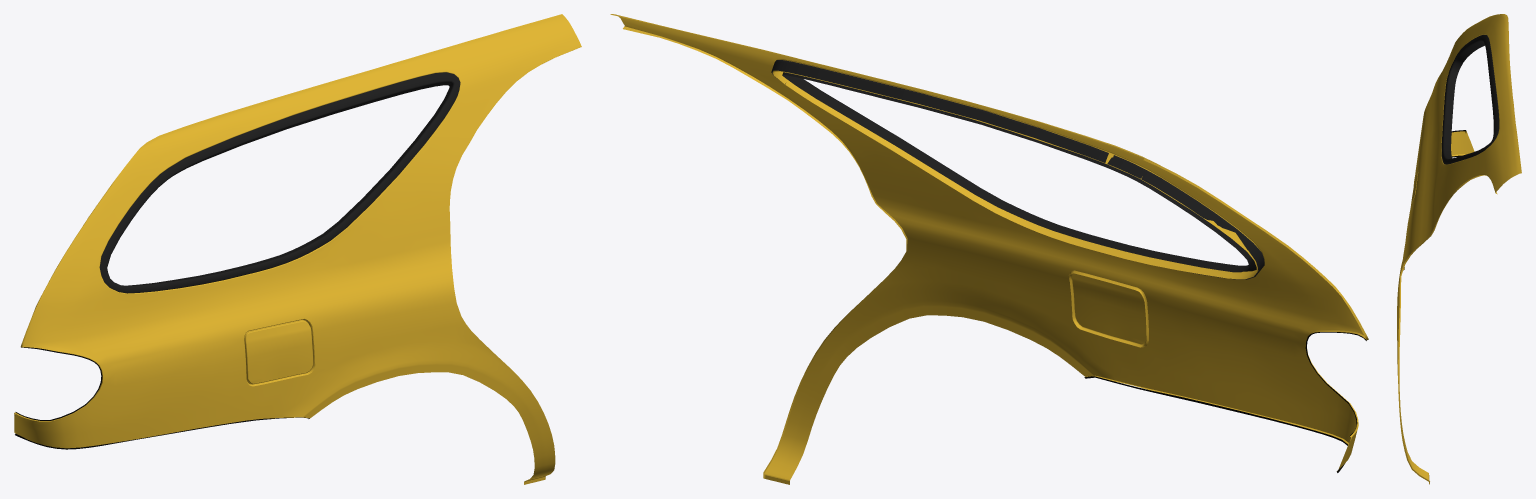
3 renders of one model, left to right at view 1: azimuth 30°, elevation 25°; view 2: azimuth 150°, elevation 25°; view 3: azimuth 270°, elevation 25°, orthographic. The views are drawn at different scales.
Parts seen in each view (by area): view 1: P353_20_401B_R_1_DaS_P353_20_401B_R, P353_20_401B_R_P353_20_401B_R_2_D, P353_20_401B_R_1_DaS_P353_20_401B_R_E, P353_20_401B_R_P353_20_401B_R_3_D; view 2: P353_20_401B_R_1_DaS_P353_20_401B_R, P353_20_401B_R_1_DaS_P353_20_401B_R_E, P353_20_401B_R_P353_20_401B_R_2_D, P353_20_401B_R_P353_20_401B_R_3_D; view 3: P353_20_401B_R_1_DaS_P353_20_401B_R, P353_20_401B_R_P353_20_401B_R_2_D, P353_20_401B_R_1_DaS_P353_20_401B_R_E.
Boxes of the visible parts, left/top/right/bottom form: P353_20_401B_R_1_DaS_P353_20_401B_R: left=15, top=14, right=581, bottom=480; P353_20_401B_R_P353_20_401B_R_2_D: left=99, top=72, right=460, bottom=293; P353_20_401B_R_1_DaS_P353_20_401B_R_E: left=14, top=50, right=572, bottom=484; P353_20_401B_R_P353_20_401B_R_3_D: left=15, top=347, right=309, bottom=449; P353_20_401B_R_1_DaS_P353_20_401B_R: left=610, top=14, right=1363, bottom=479; P353_20_401B_R_1_DaS_P353_20_401B_R_E: left=623, top=26, right=1368, bottom=484; P353_20_401B_R_P353_20_401B_R_2_D: left=771, top=60, right=1264, bottom=279; P353_20_401B_R_P353_20_401B_R_3_D: left=1084, top=332, right=1366, bottom=472; P353_20_401B_R_1_DaS_P353_20_401B_R: left=1397, top=14, right=1521, bottom=479; P353_20_401B_R_P353_20_401B_R_2_D: left=1441, top=34, right=1499, bottom=164; P353_20_401B_R_1_DaS_P353_20_401B_R_E: left=1398, top=33, right=1499, bottom=484.
Bounding box in the file's own units: 189 × 125 × 41.33.
